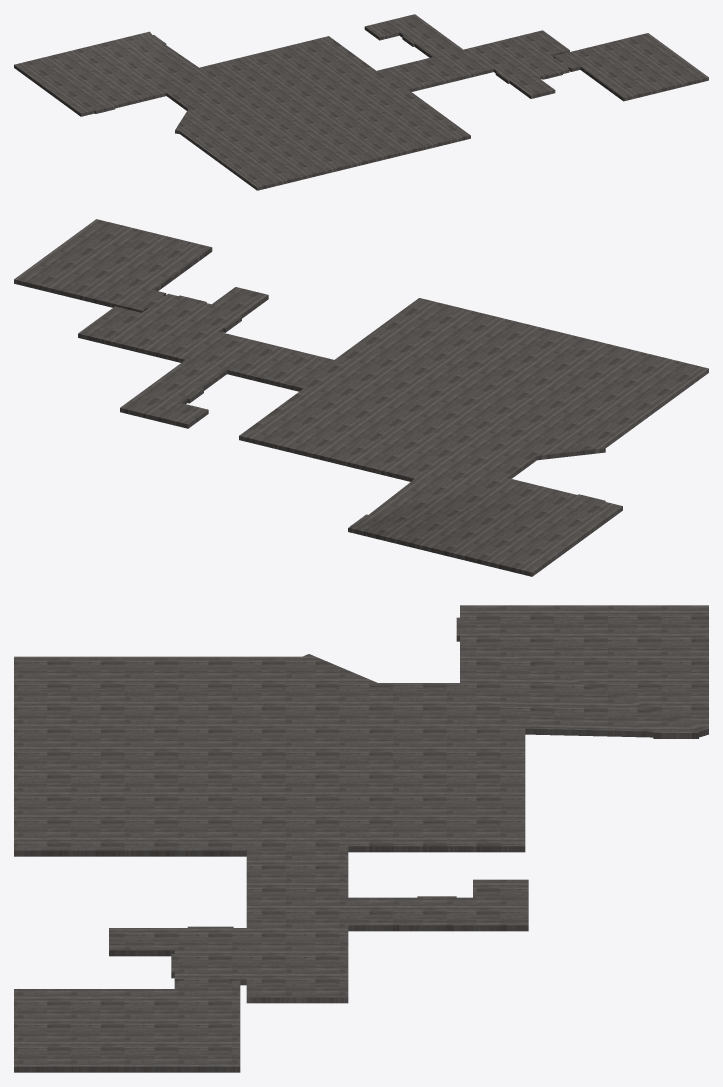
File: 1989_kitchen_Floor_CastinePlusWhitefillOak.gltf
The picture shows the model from 3 angles, top to bottom: view 1: azimuth 30°, elevation 25°; view 2: azimuth 150°, elevation 25°; view 3: azimuth 270°, elevation 25°; orthographic projection. The views are drawn at different scales.
Visible parts, largest first — view 1: Floors_Castine_cove_plus; view 2: Floors_Castine_cove_plus; view 3: Floors_Castine_cove_plus.
Part boxes in pixels (left/top/right/bottom): Floors_Castine_cove_plus: left=14, top=14, right=708, bottom=190; Floors_Castine_cove_plus: left=14, top=219, right=708, bottom=576; Floors_Castine_cove_plus: left=14, top=605, right=708, bottom=1072.
Size of the model in its own units: 33.3 by 0.3 by 21.2.
Materials: 1 (1 with a texture image).
